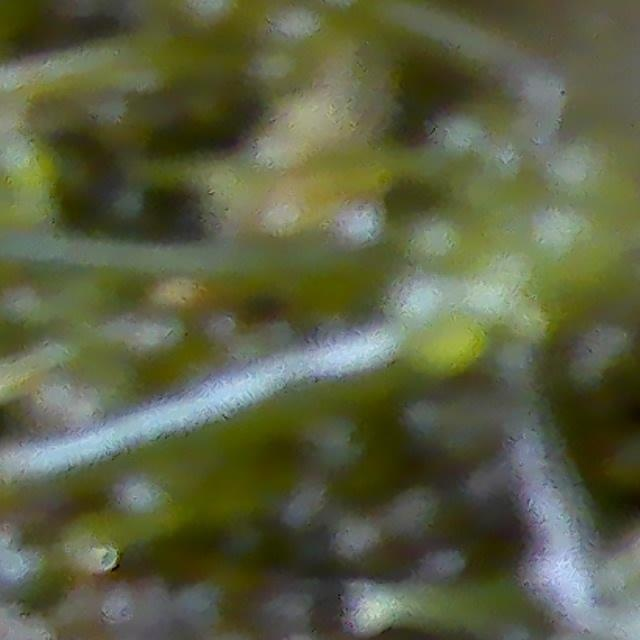SeaGrape: (419, 314, 489, 378), (395, 278, 450, 332)
